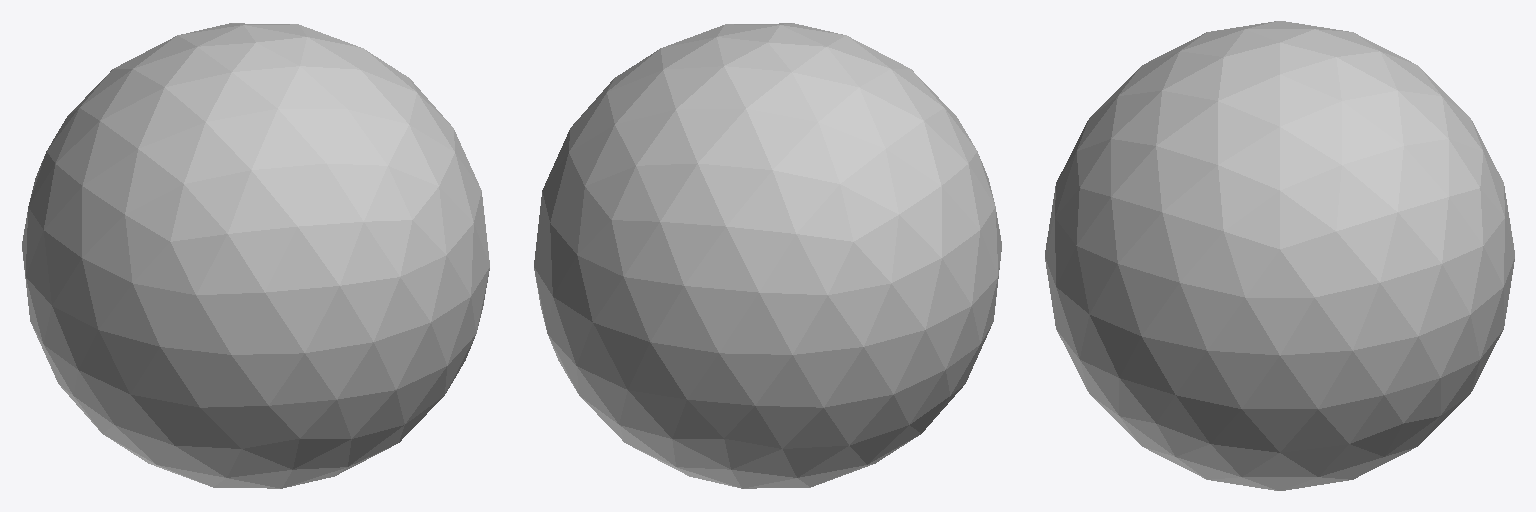
The model's file is art_moonlight.obj.
3 views of the same model, side by side, from view 1: azimuth 30°, elevation 25°; view 2: azimuth 150°, elevation 25°; view 3: azimuth 270°, elevation 25° (orthographic).
Visible parts, largest first — view 1: art_moonlight_Icosphere; view 2: art_moonlight_Icosphere; view 3: art_moonlight_Icosphere.
Part boxes in pixels (x1,y1,x2,y2): art_moonlight_Icosphere: (22, 23, 489, 488); art_moonlight_Icosphere: (534, 23, 1001, 488); art_moonlight_Icosphere: (1045, 21, 1514, 490).
Bounding box in the file's own units: 4.67 × 4.67 × 4.67.